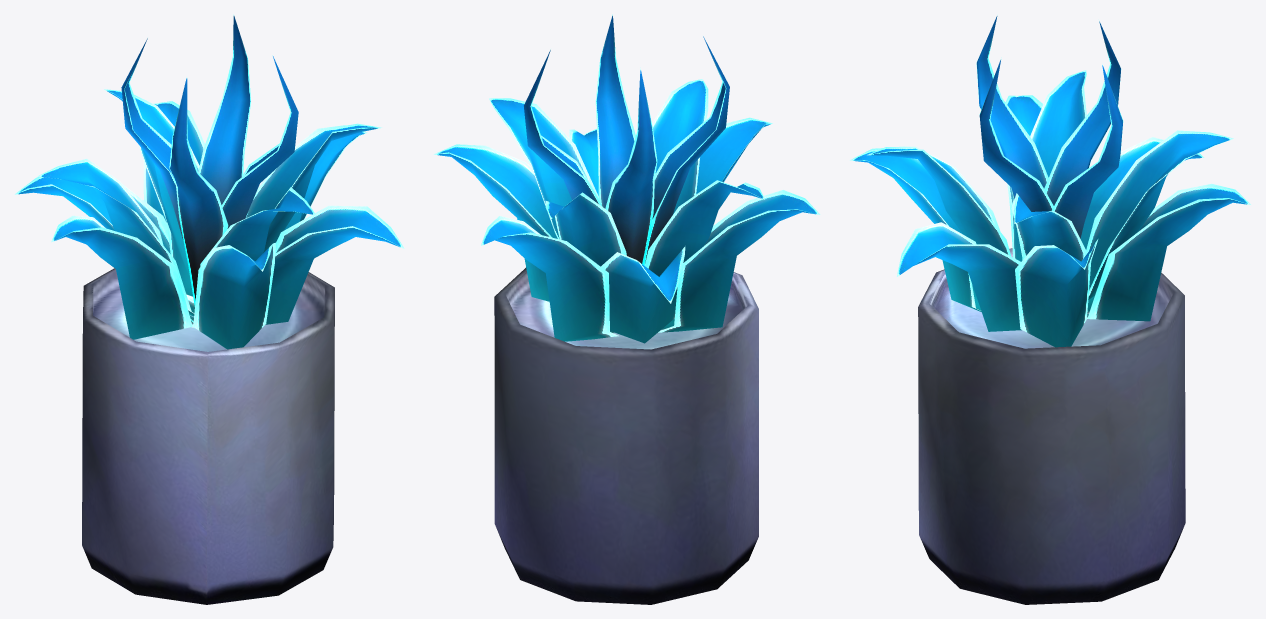
File: obj_plant01.gltf
3 views of the same model, side by side, from view 1: azimuth 30°, elevation 25°; view 2: azimuth 150°, elevation 25°; view 3: azimuth 270°, elevation 25° (orthographic).
Visible parts, largest first — view 1: obj_plant01; view 2: obj_plant01; view 3: obj_plant01.
Boxes of the visible parts, x1,y1,x2,y2 form: obj_plant01: (14, 14, 404, 604); obj_plant01: (433, 14, 820, 604); obj_plant01: (849, 15, 1250, 604).
Size of what is drawn, in the model's own units: 0.9922 by 1.38 by 0.9717.
1 material, 1 textured.
